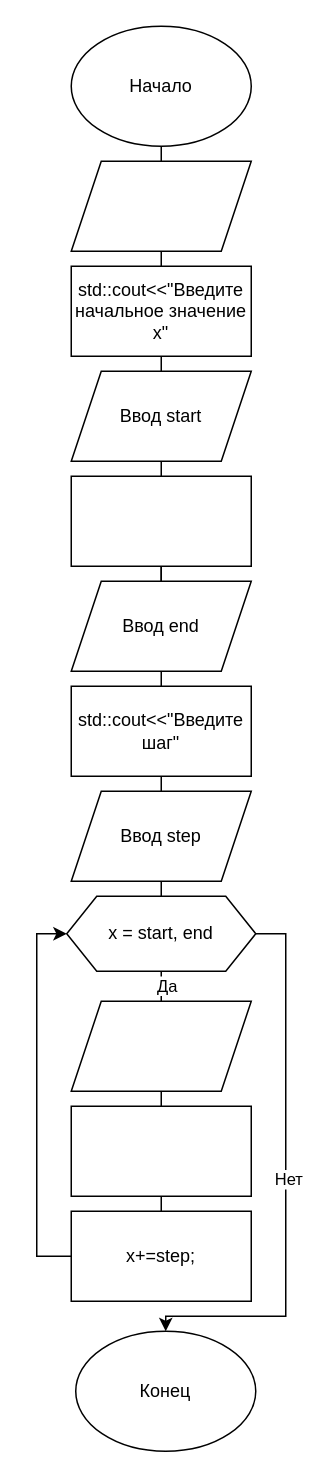
This 329x1478 diagram has some shape labels left out. Here are the shapes that lost their labels. From the top down, the box of each, then its label:
(70, 160, 251, 251): touble, start, end, step
(70, 475, 251, 566): std::cout<<"Введите конечное значение х"
(70, 1000, 251, 1091): double y = sin(x)
(70, 1105, 251, 1196): std::cout<<x<<"|"<<y<<std::endl;
